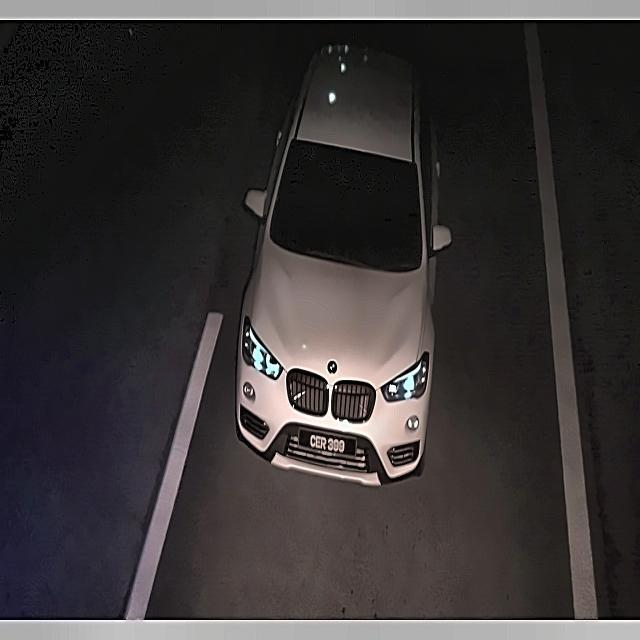car: (296, 420, 362, 464)
